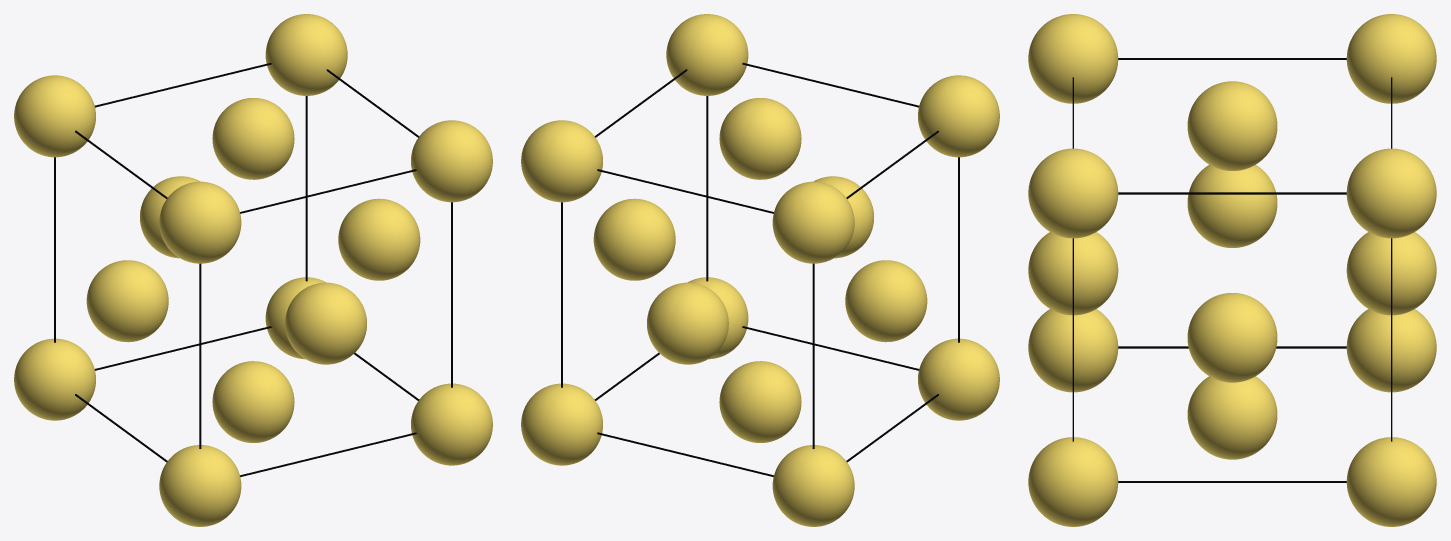
The picture shows the model from 3 angles, left to right: view 1: azimuth 30°, elevation 25°; view 2: azimuth 150°, elevation 25°; view 3: azimuth 270°, elevation 25°; orthographic projection. The views are drawn at different scales.
Visible parts, largest first — view 1: UnitCellSegment_0; view 2: UnitCellSegment_0; view 3: UnitCellSegment_0.
Part boxes in pixels (x1=…): UnitCellSegment_0: x1=14, y1=14, x2=492, y2=526; UnitCellSegment_0: x1=521, y1=14, x2=999, y2=526; UnitCellSegment_0: x1=1028, y1=14, x2=1436, y2=526.
Bounding box in the file's own units: 0.5231 × 0.5231 × 0.5231.
